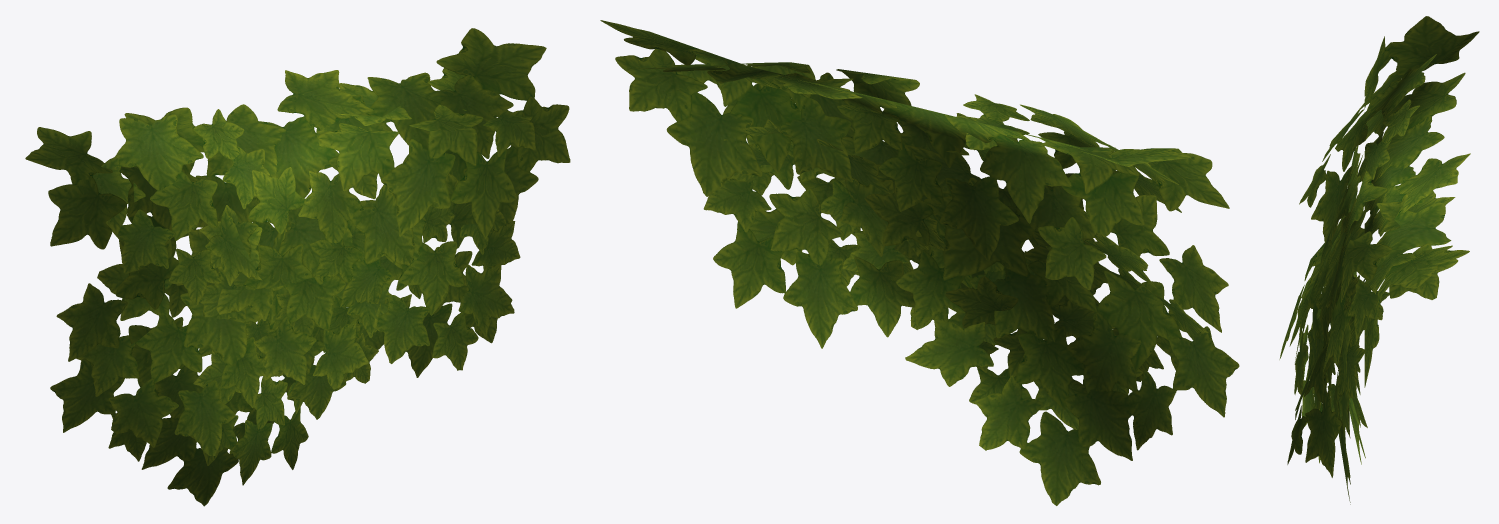
The model's file is MSH_fwOF_Ivy_Top_2.fbx.
3 renders of one model, left to right at view 1: azimuth 30°, elevation 25°; view 2: azimuth 150°, elevation 25°; view 3: azimuth 270°, elevation 25°, orthographic. The views are drawn at different scales.
Visible parts, largest first — view 1: MSH_fwOF_Ivy_Top_2_LOD0; view 2: MSH_fwOF_Ivy_Top_2_LOD0; view 3: MSH_fwOF_Ivy_Top_2_LOD0.
Part boxes in pixels (x1=…): MSH_fwOF_Ivy_Top_2_LOD0: x1=25, y1=28, x2=570, y2=506; MSH_fwOF_Ivy_Top_2_LOD0: x1=600, y1=20, x2=1239, y2=505; MSH_fwOF_Ivy_Top_2_LOD0: x1=1279, y1=16, x2=1479, y2=504.
Size of what is drawn, in the model's own units: 0.861 by 0.5884 by 0.2788.
